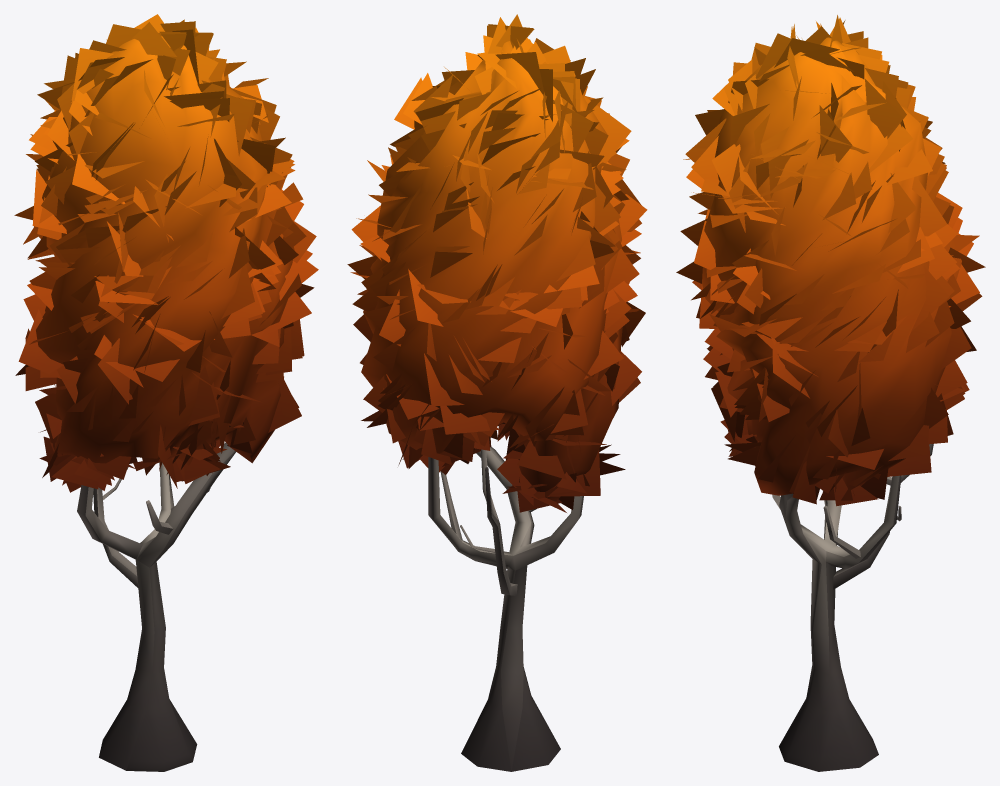
File: Forest_Tree_8C.fbx
3 renders of one model, left to right at view 1: azimuth 30°, elevation 25°; view 2: azimuth 150°, elevation 25°; view 3: azimuth 270°, elevation 25°, orthographic. The views are drawn at different scales.
Parts seen in each view (by area): view 1: Forest_Tree_8C; view 2: Forest_Tree_8C; view 3: Forest_Tree_8C.
Part boxes in pixels (x1,y1,x2,y2): Forest_Tree_8C: [14, 14, 318, 771]; Forest_Tree_8C: [347, 14, 647, 771]; Forest_Tree_8C: [676, 15, 985, 771].
Size of the model in its own units: 327 by 873 by 337.
